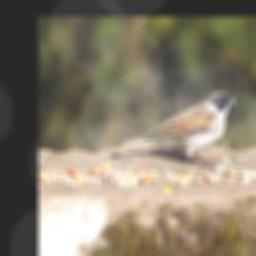Sparrow: (118, 89, 238, 166)
